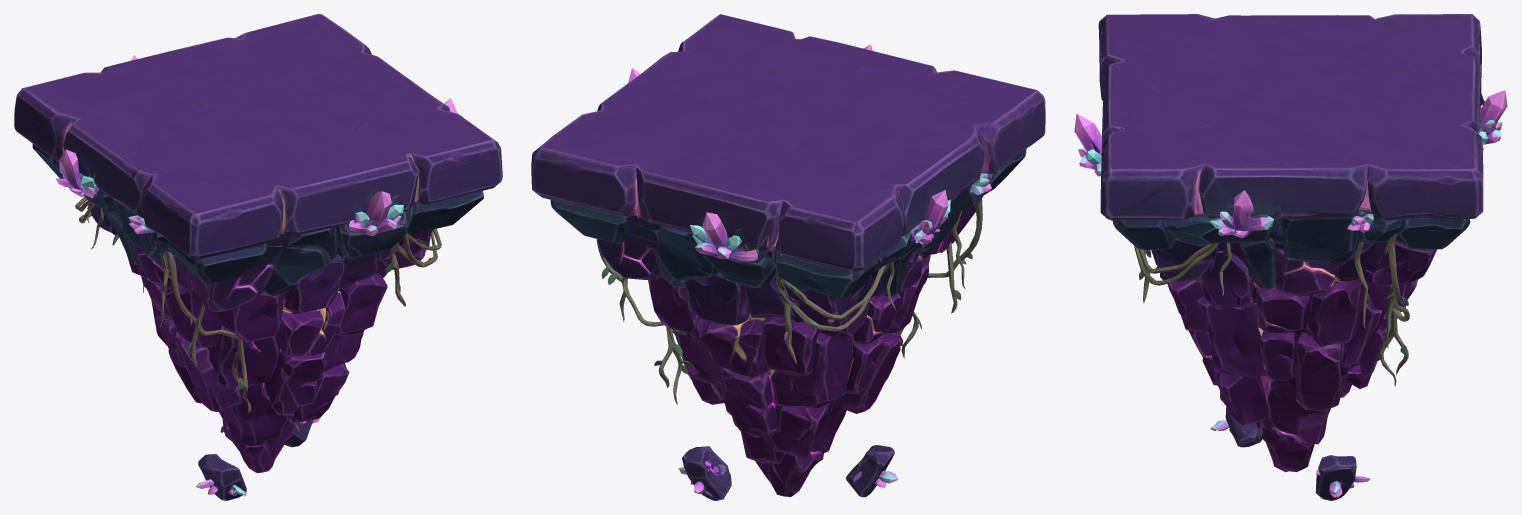
The model's file is island-rock.glb.
3 views of the same model, side by side, from view 1: azimuth 30°, elevation 25°; view 2: azimuth 150°, elevation 25°; view 3: azimuth 270°, elevation 25° (orthographic). The views are drawn at different scales.
Visible parts, largest first — view 1: output_unwrapped; view 2: output_unwrapped; view 3: output_unwrapped.
Boxes of the visible parts, x1,y1,x2,y2 form: output_unwrapped: [14, 14, 502, 500]; output_unwrapped: [531, 14, 1045, 500]; output_unwrapped: [1074, 14, 1507, 500].
Size of the model in its own units: 1.84 by 1.82 by 1.87.
1 material, 1 textured.
